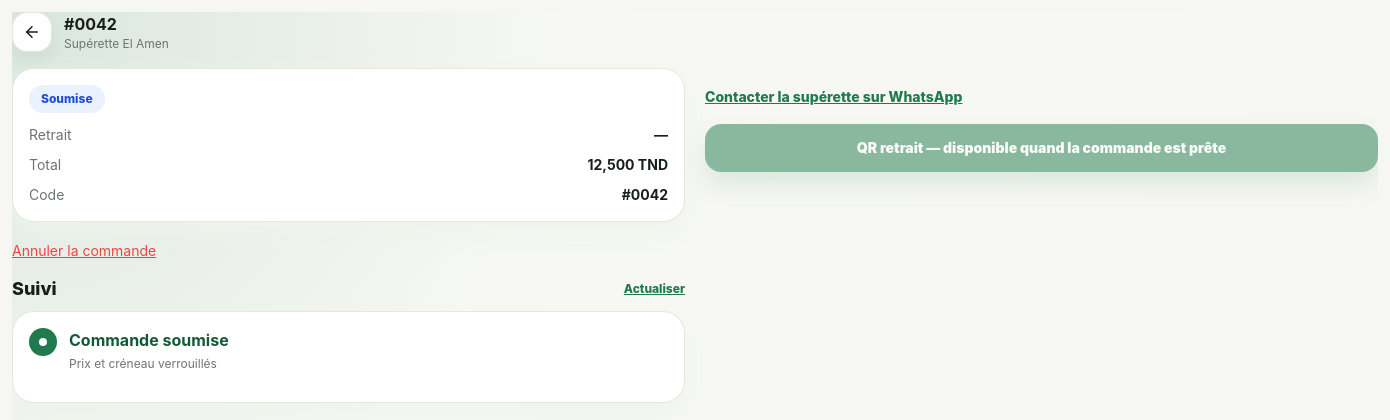
Test: OrderTrackingPage — bouton WhatsApp › affiche un message discret quand le téléphone est indisponible (409)
What coordinates should you click on to do the following:
click the button "Contacter la supérette sur WhatsApp"
I would click on:
 (834, 97)
Its box is [705,87,962,107].
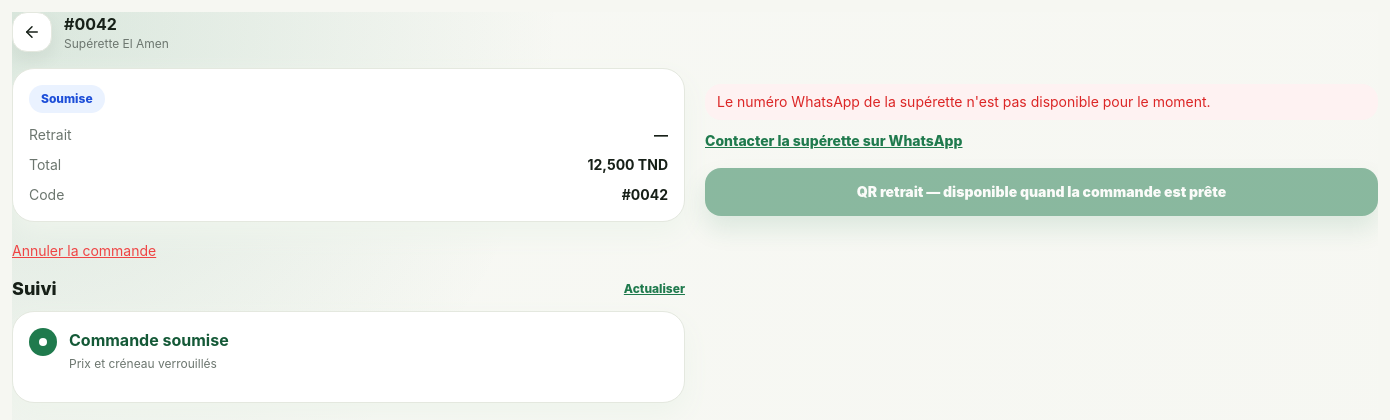
Check: the text "numéro WhatsApp de la supérette n'est pas disponible" is shown, box [717,93,1211,110]
